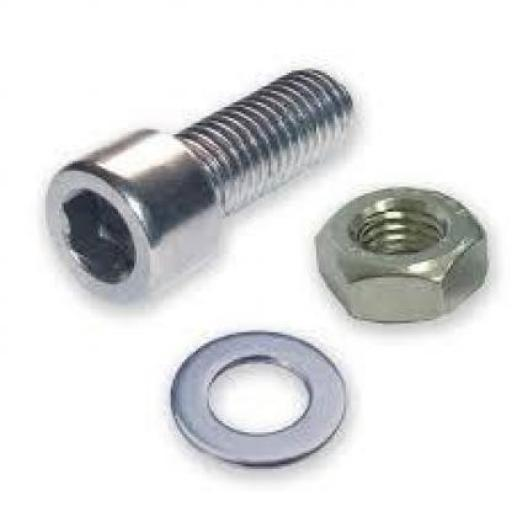Bolt: (44, 68, 357, 308)
Nut: (315, 186, 490, 325)
Washer: (168, 330, 347, 470)
